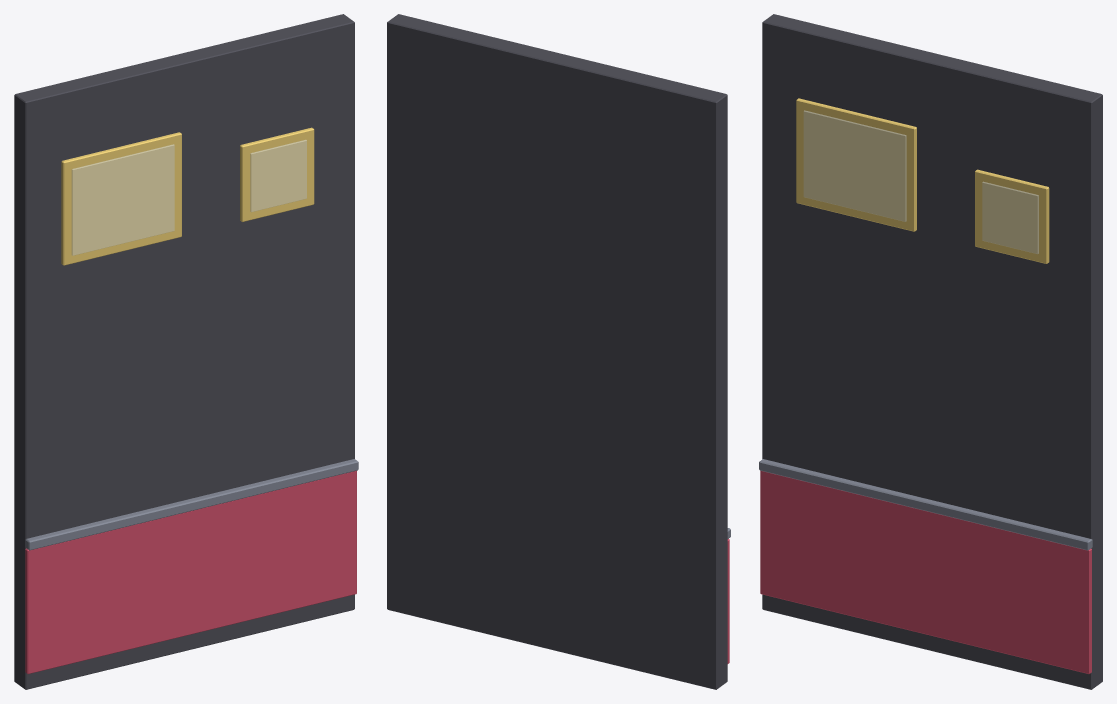
The model's file is cinema-multiplex-and-foyer-projection-port-panel-5fea671f__34655.glb.
The picture shows the model from 3 angles, left to right: view 1: azimuth 30°, elevation 25°; view 2: azimuth 150°, elevation 25°; view 3: azimuth 330°, elevation 25°; orthographic projection.
Parts seen in each view (by area): view 1: projection-port-panel; view 2: projection-port-panel; view 3: projection-port-panel.
Boxes of the visible parts, x1,y1,x2,y2 form: projection-port-panel: [14, 14, 358, 689]; projection-port-panel: [387, 14, 730, 689]; projection-port-panel: [759, 14, 1102, 689].
Size of the model in its own units: 2 by 3.4 by 0.157.
